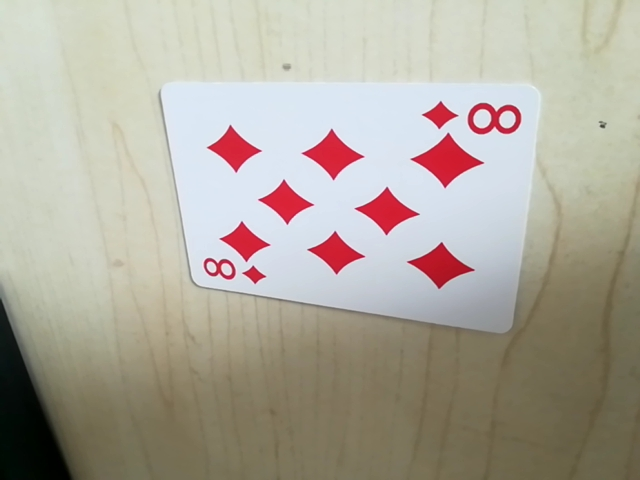fk 8: (418, 91, 525, 140), (196, 254, 269, 293)
